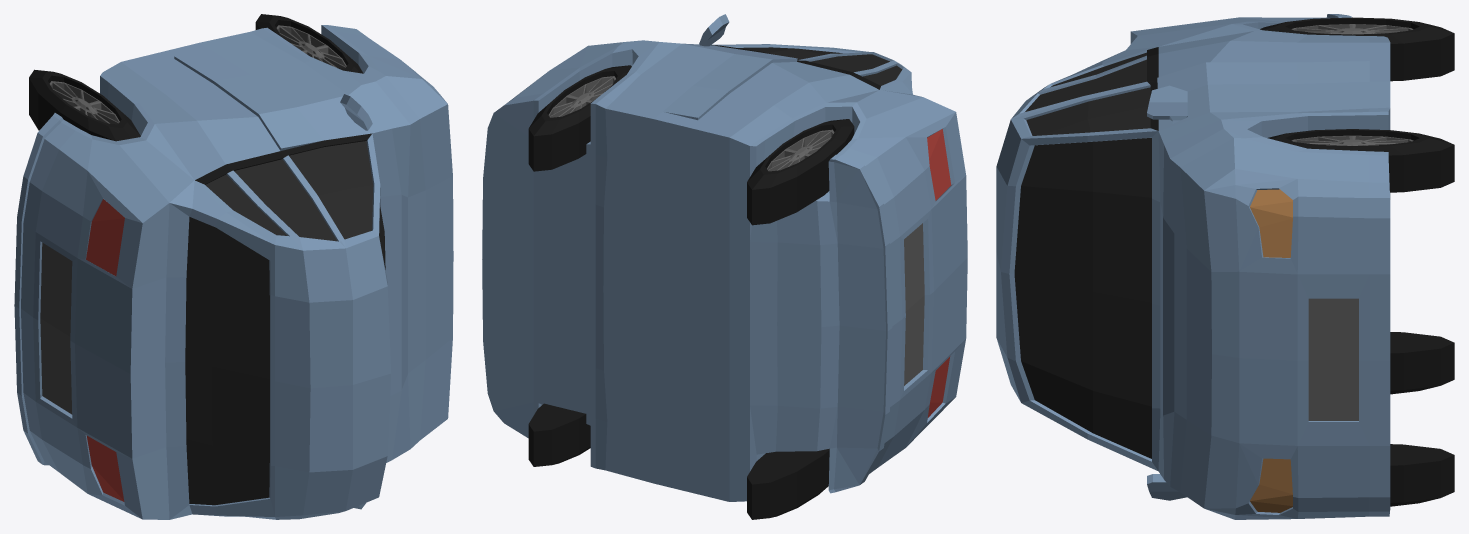
Rendered from sedan.glb.
3 renders of one model, left to right at view 1: azimuth 30°, elevation 25°; view 2: azimuth 150°, elevation 25°; view 3: azimuth 270°, elevation 25°, orthographic. The views are drawn at different scales.
Visible parts, largest first — view 1: vehicle/sedan; view 2: vehicle/sedan; view 3: vehicle/sedan.
Boxes of the visible parts, x1,y1,x2,y2 form: vehicle/sedan: (14, 14, 453, 519); vehicle/sedan: (482, 14, 967, 519); vehicle/sedan: (996, 14, 1454, 519).
Size of the model in its own units: 1 by 1 by 1.
